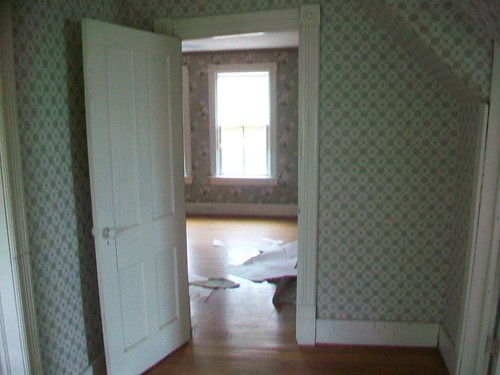door: (178, 36, 301, 342)
window: (211, 72, 272, 177)
